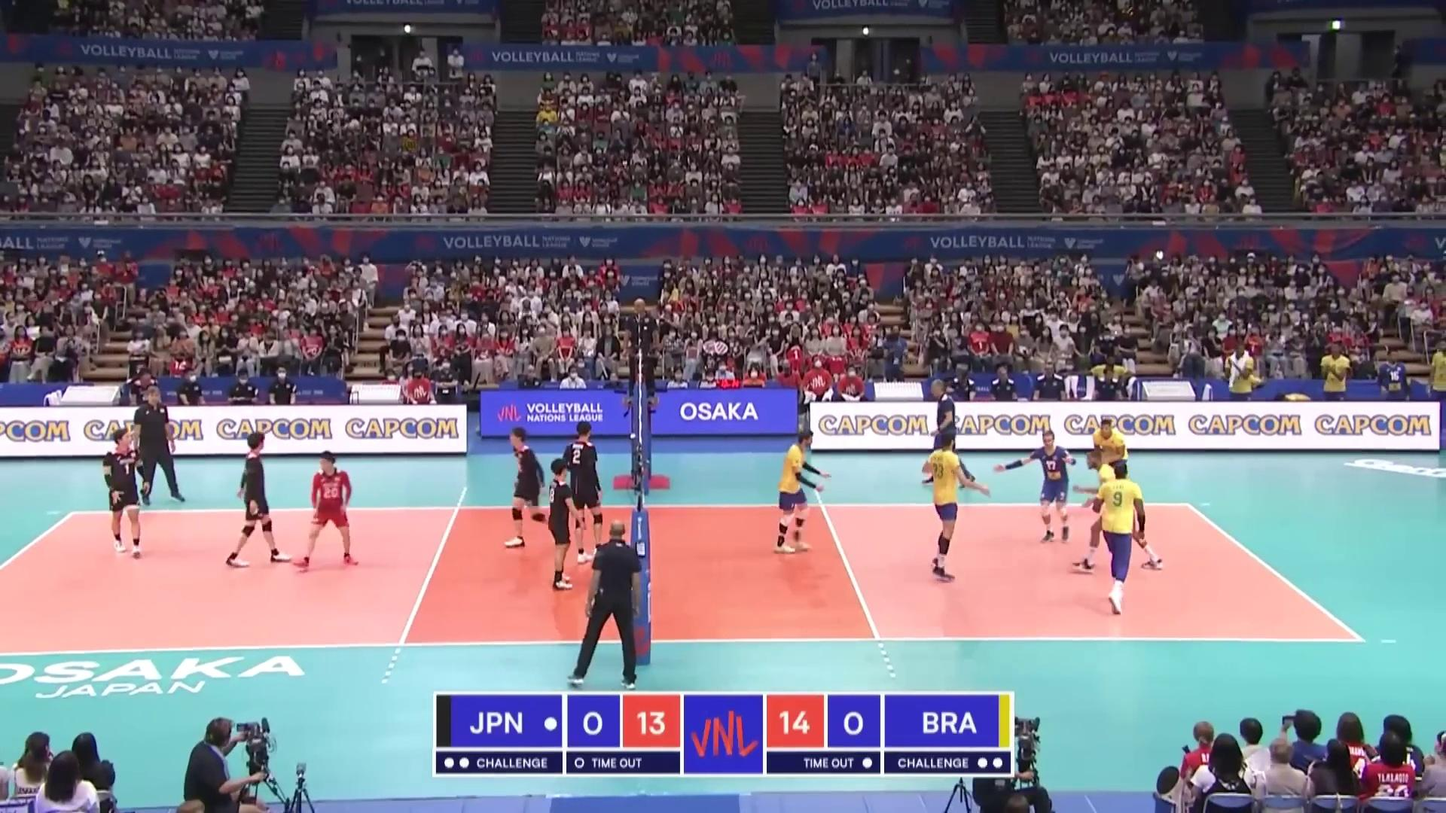player: (1069, 452, 1165, 574), (1090, 460, 1155, 616), (224, 432, 294, 567), (924, 434, 987, 583), (1006, 431, 1075, 545), (298, 452, 362, 571), (773, 431, 829, 557), (101, 429, 149, 560), (564, 421, 608, 562), (503, 427, 552, 550), (546, 460, 583, 590), (1092, 419, 1136, 503)
refree: (572, 523, 646, 688), (623, 297, 660, 407)
